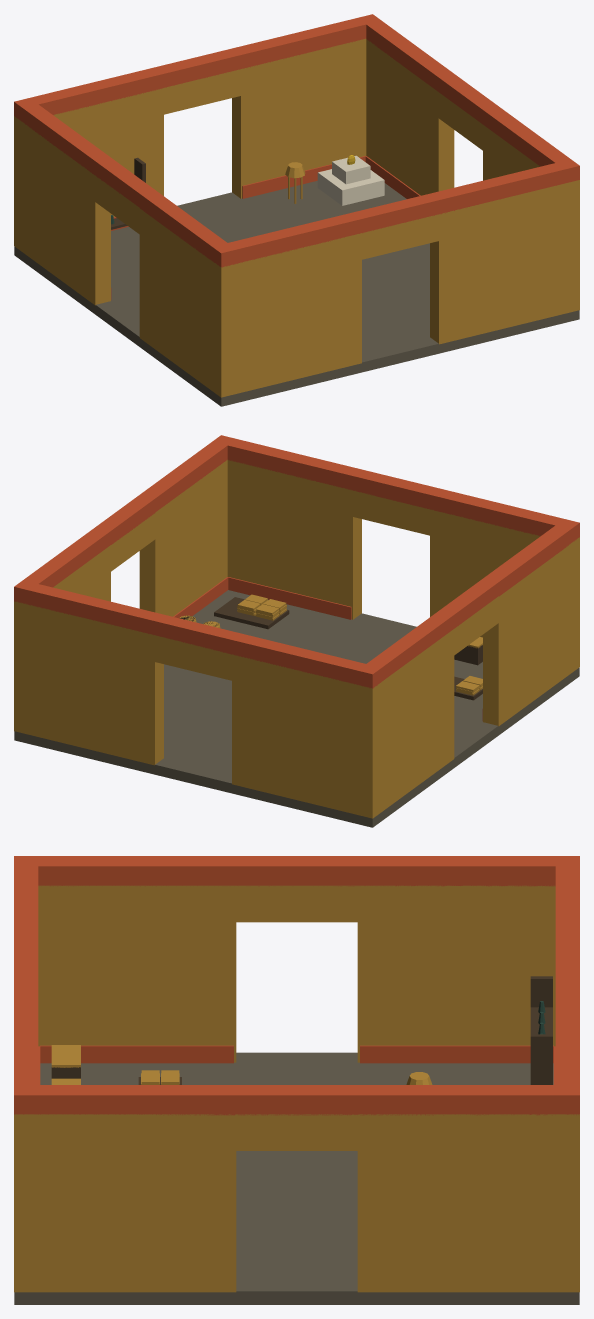
File: BronzeTreasury.fbx
The picture shows the model from 3 angles, top to bottom: view 1: azimuth 30°, elevation 25°; view 2: azimuth 150°, elevation 25°; view 3: azimuth 270°, elevation 25°; orthographic projection. The views are drawn at different scales.
Parts seen in each view (by area): view 1: BronzeTreasury; view 2: BronzeTreasury; view 3: BronzeTreasury.
Boxes of the visible parts, box(x1,y1,x2,y2) form: BronzeTreasury: box(14, 14, 579, 406); BronzeTreasury: box(14, 435, 579, 827); BronzeTreasury: box(14, 856, 579, 1304).
Size of the model in its own units: 1202 by 492 by 1202.
Materials: 8 (8 with a texture image).
